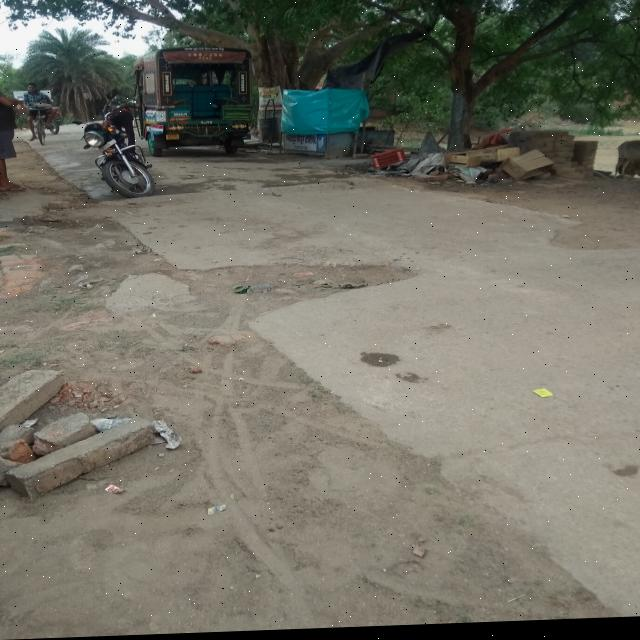plate: (97, 139, 118, 153), (165, 135, 180, 141)
